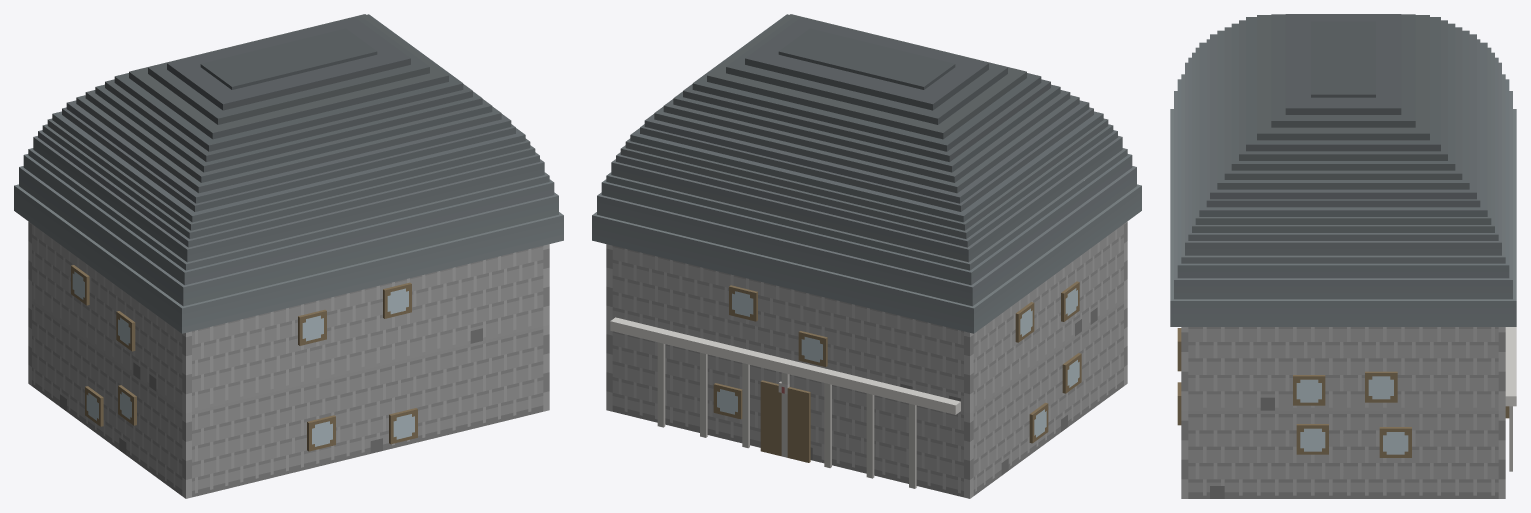
File: casa_gremio_03.glb
3 renders of one model, left to right at view 1: azimuth 30°, elevation 25°; view 2: azimuth 150°, elevation 25°; view 3: azimuth 270°, elevation 25°, orthographic. The views are drawn at different scales.
Visible parts, largest first — view 1: casa_gremio_03; view 2: casa_gremio_03; view 3: casa_gremio_03.
Part boxes in pixels (box(x1,y1,x2,y2)): casa_gremio_03: box(14, 14, 563, 498); casa_gremio_03: box(592, 14, 1141, 498); casa_gremio_03: box(1170, 14, 1516, 498).
Size of the model in its own units: 12.6 by 10.7 by 9.6.
